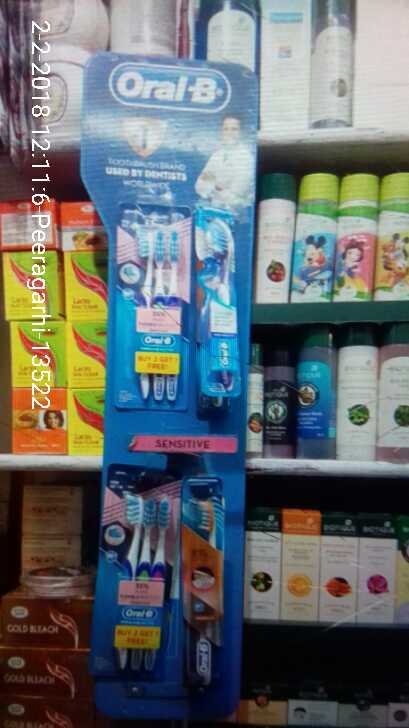oralb: (109, 196, 185, 409), (103, 463, 178, 678), (194, 194, 242, 411), (182, 477, 225, 698)
